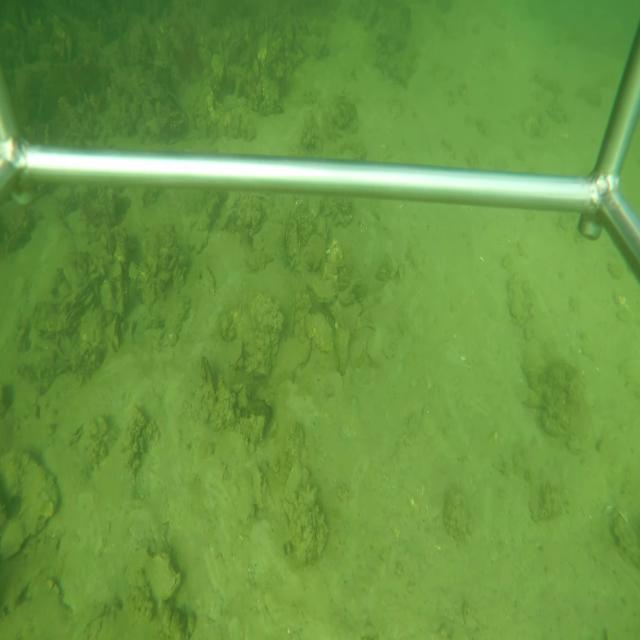Oyster-Closed: (126, 544, 184, 603), (264, 330, 314, 385), (312, 274, 338, 305), (227, 337, 244, 369), (253, 466, 265, 510), (202, 262, 216, 295), (282, 208, 293, 246), (318, 214, 328, 242)
Oyster-Indeterminate: (1, 449, 61, 561), (304, 311, 334, 354), (332, 322, 349, 373)
Oyster-Open: (166, 92, 181, 110)
